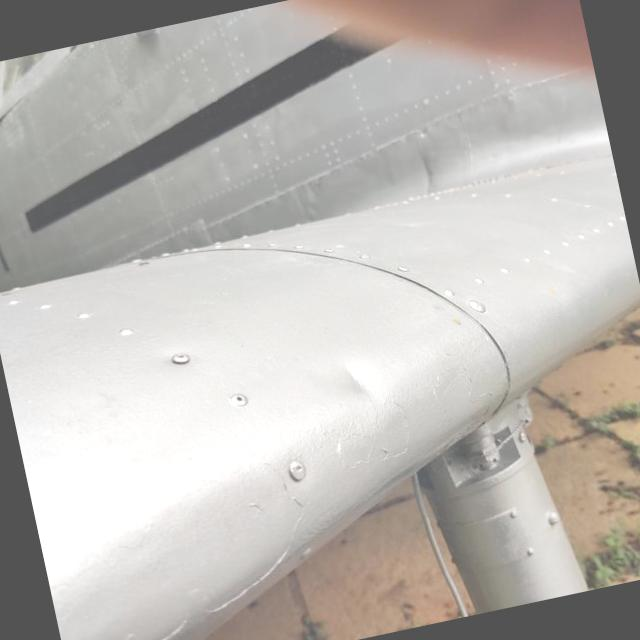dent: (322, 342, 398, 426)
